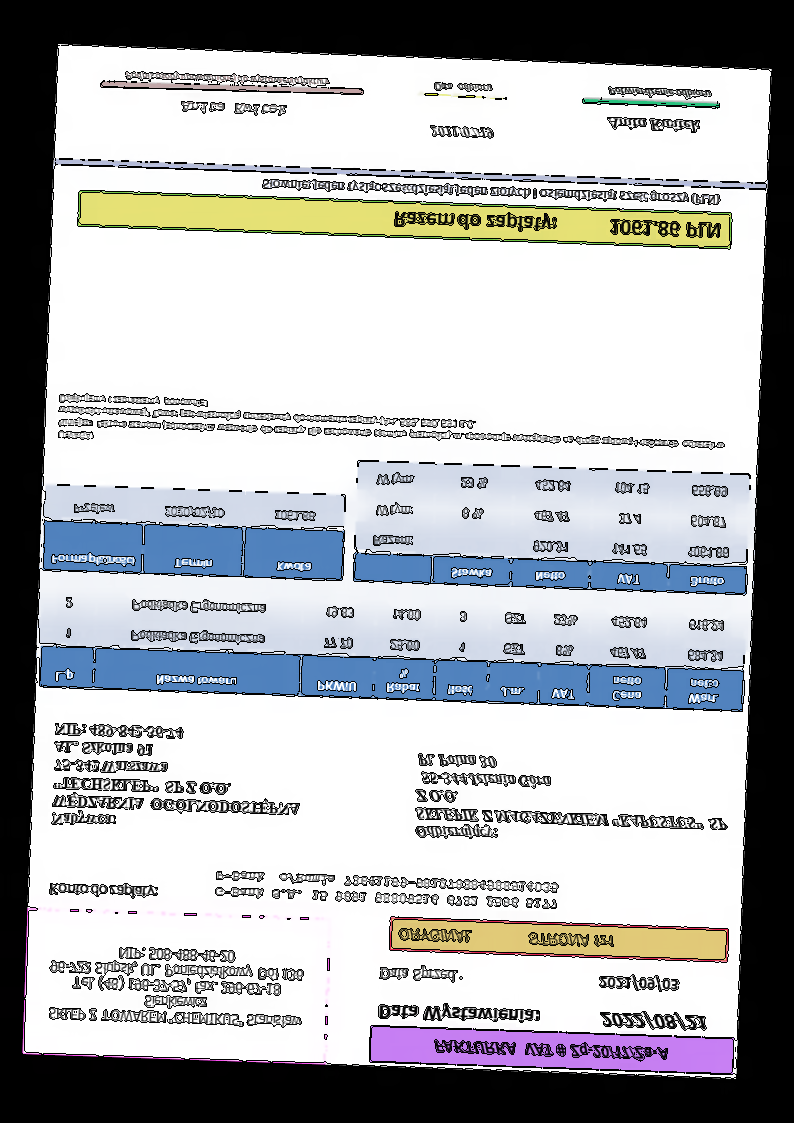Table: (37, 579, 748, 715), (349, 459, 751, 596), (41, 482, 349, 584)
TextBox: (55, 391, 729, 466), (411, 748, 731, 850), (47, 717, 307, 837), (41, 940, 310, 1033), (259, 175, 722, 210), (209, 868, 562, 912), (390, 209, 724, 245), (428, 1035, 675, 1068), (396, 924, 616, 951), (375, 999, 544, 1028), (121, 69, 334, 90), (599, 1009, 709, 1036), (44, 878, 161, 902), (178, 100, 286, 119), (374, 964, 467, 986), (603, 115, 704, 135), (606, 84, 715, 100), (596, 972, 682, 992), (428, 124, 498, 141), (432, 81, 497, 95)
